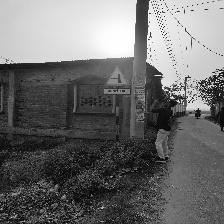Side-road-left: (104, 66, 131, 95)
